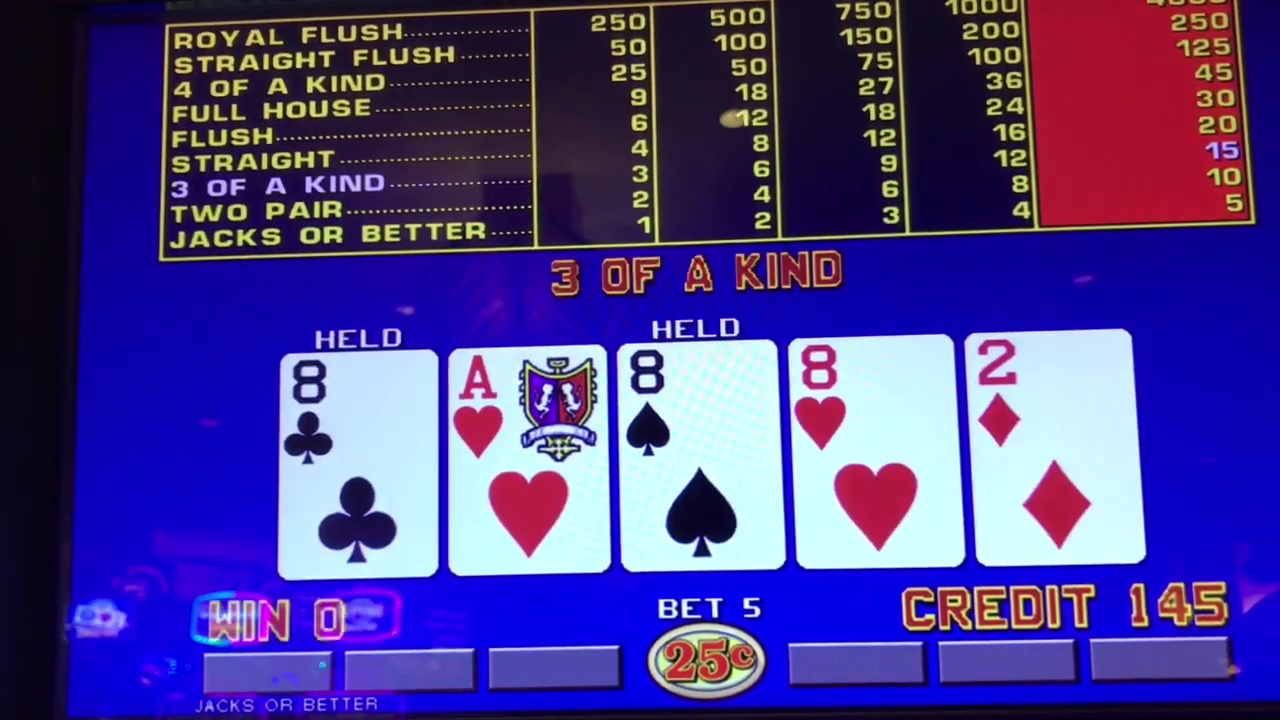C8: (283, 353, 433, 573)
D2: (974, 334, 1140, 565)
H2: (791, 336, 943, 561)
HA: (451, 348, 602, 568)
S8: (619, 346, 782, 566)
